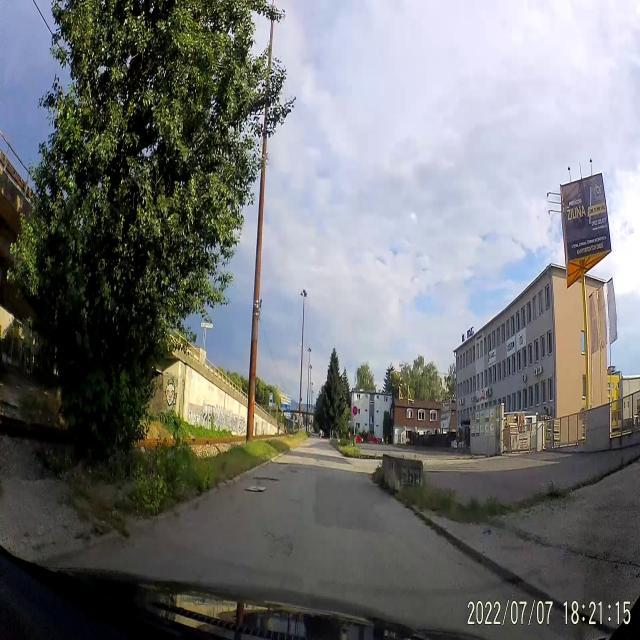Manhole: (244, 483, 268, 497)
Pothole: (247, 471, 284, 485)
